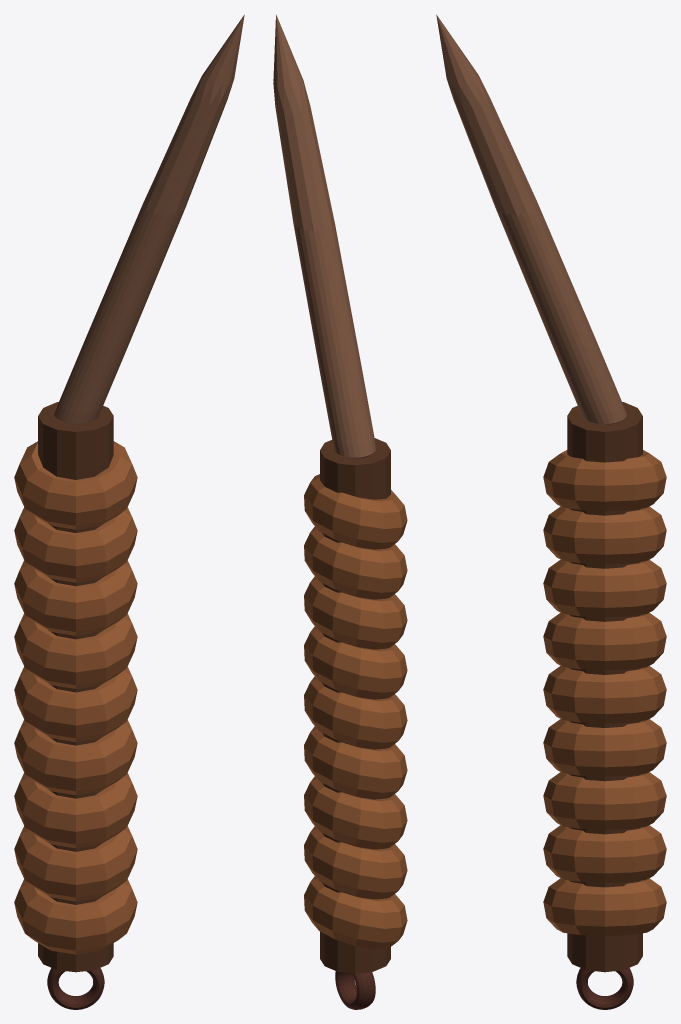
The model's file is Wand 491.glb.
The picture shows the model from 3 angles, left to right: view 1: azimuth 90°, elevation 25°; view 2: azimuth 210°, elevation 25°; view 3: azimuth 270°, elevation 25°; orthographic projection. The views are drawn at different scales.
Visible parts, largest first — view 1: GeneratedWand; view 2: GeneratedWand; view 3: GeneratedWand.
Part boxes in pixels (x1,y1,x2,y2): GeneratedWand: (14,14,244,1009); GeneratedWand: (273,14,407,1009); GeneratedWand: (436,14,666,1009).
Bounding box in the file's own units: 0.0497 × 0.5165 × 0.1085.
